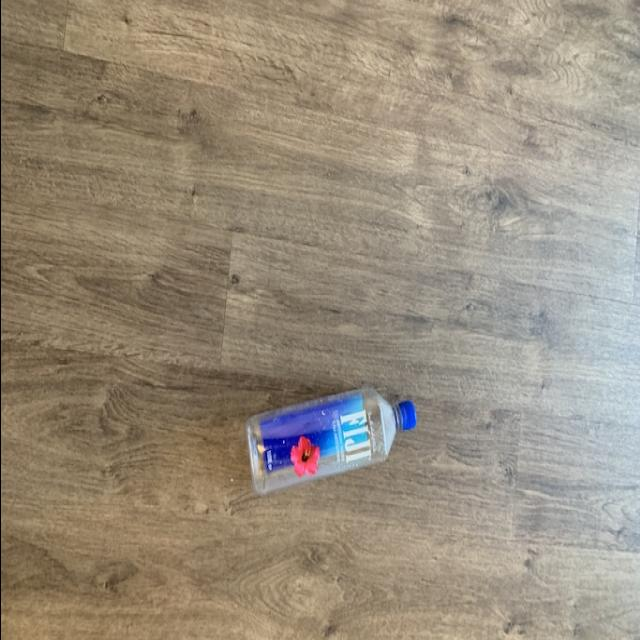PET: (245, 385, 417, 500)
